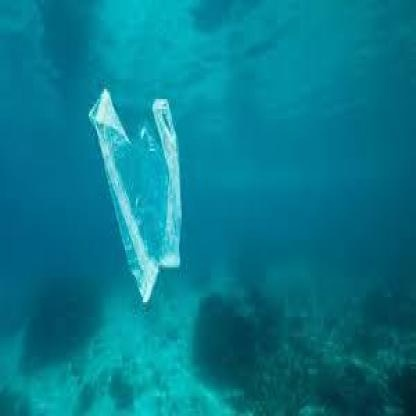pbag: (87, 86, 182, 304)
